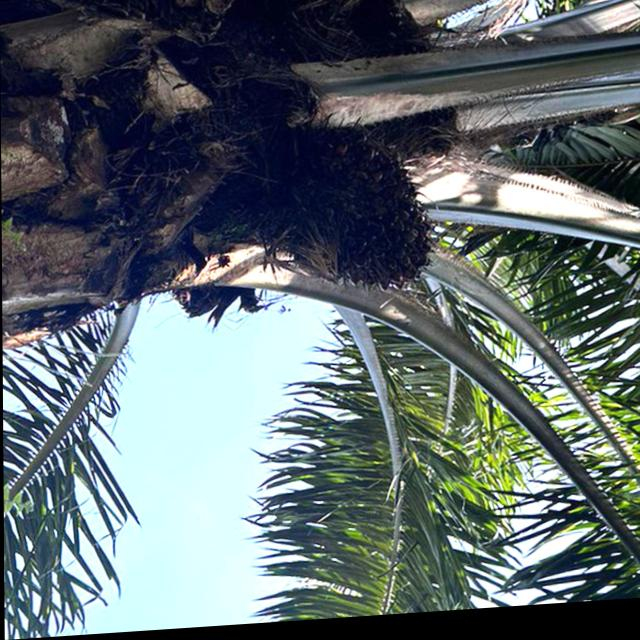ripe: (254, 104, 453, 315)
